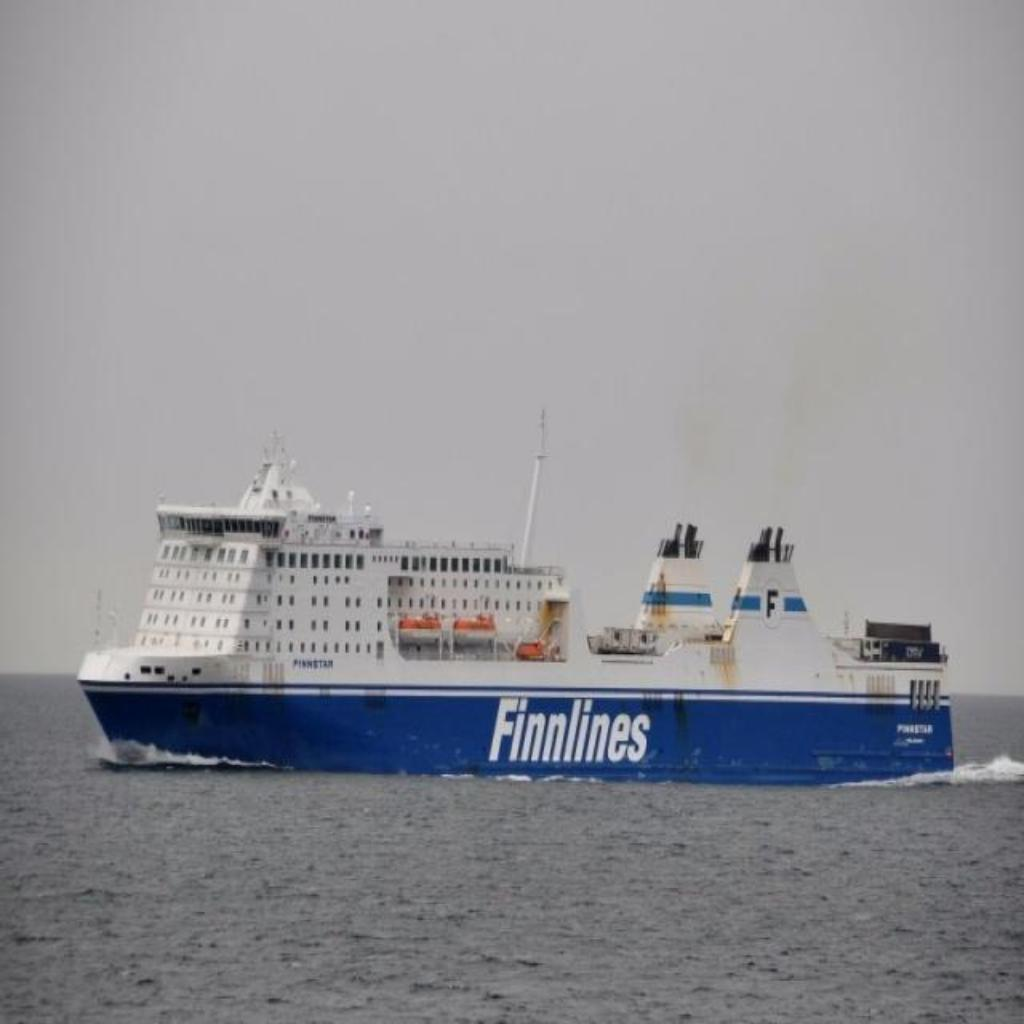PassengerShip: (66, 388, 966, 792)
